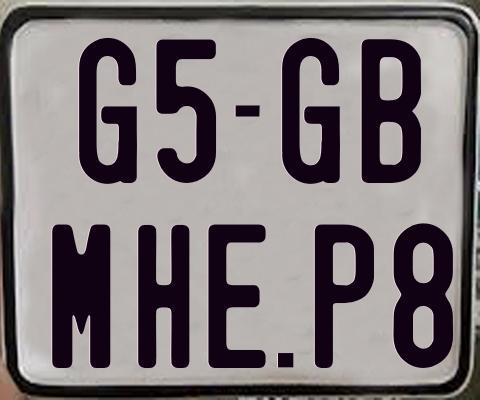5: (155, 38, 218, 183)
8: (392, 223, 454, 372)
B: (362, 37, 425, 184)
E: (206, 222, 265, 368)
G: (77, 37, 140, 189), (280, 37, 344, 184)
H: (136, 222, 190, 367)
M: (50, 223, 109, 371)
P: (312, 221, 376, 367)
